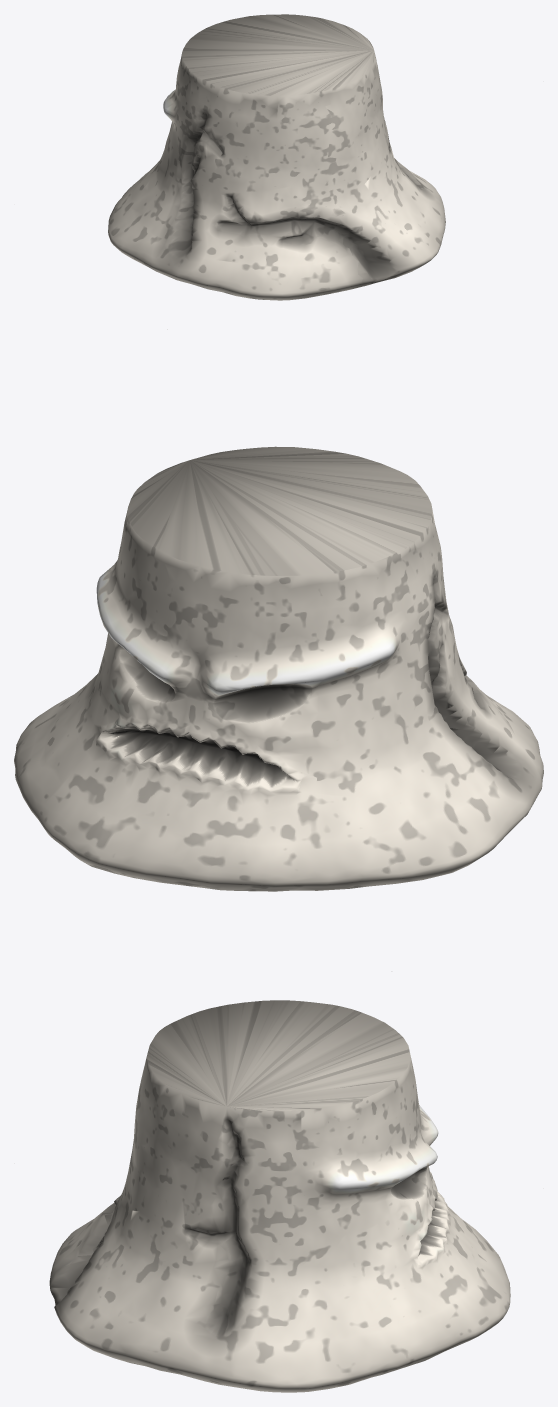
File: CreepStem.glb
3 renders of one model, top to bottom at view 1: azimuth 30°, elevation 25°; view 2: azimuth 150°, elevation 25°; view 3: azimuth 270°, elevation 25°, orthographic. The views are drawn at different scales.
Parts seen in each view (by area): view 1: CreepStem; view 2: CreepStem; view 3: CreepStem.
Part boxes in pixels (<box>): CreepStem: <box>108,14,445,300</box>; CreepStem: <box>14,329,543,891</box>; CreepStem: <box>49,1000,510,1392</box>.
Bounding box in the file's own units: 2 × 1.04 × 2.
Materials: 1 (1 with a texture image).
